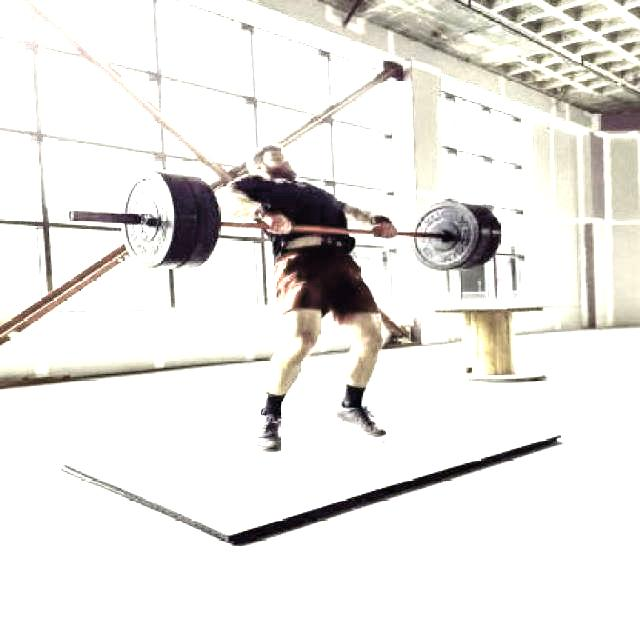barbell: (111, 170, 198, 273)
